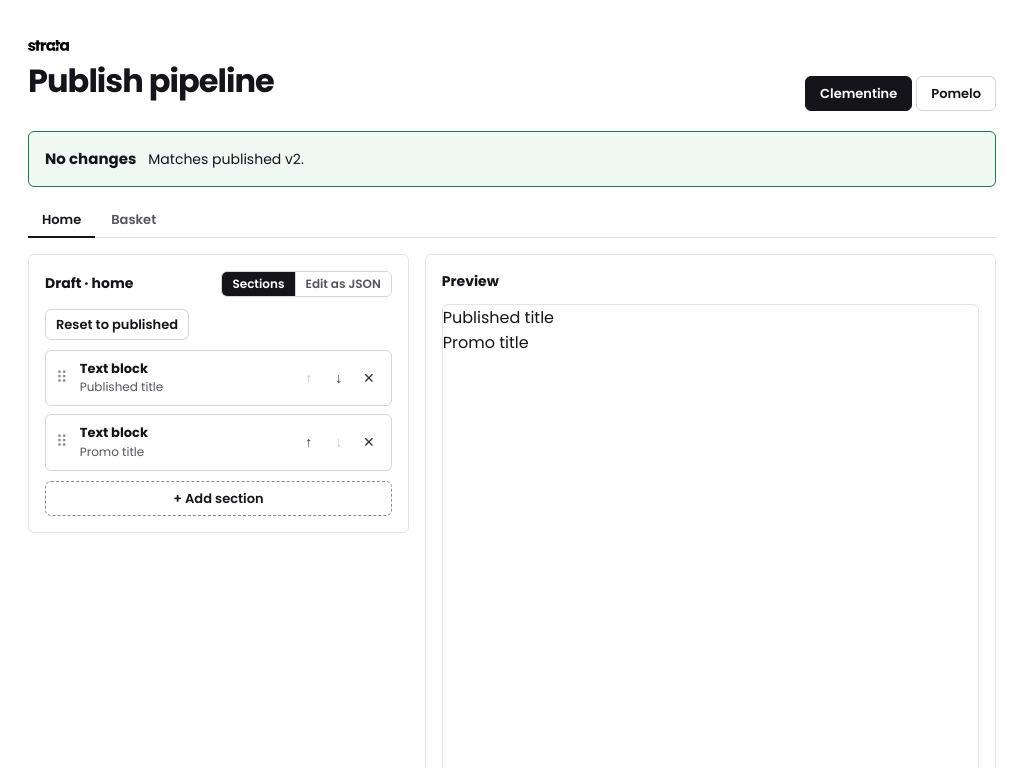
it: the section editor › reorders the preview straight away, before the check returns
Expected: the text "Matches published v2." is shown, x1=148 y1=150 x2=304 y2=170
Click the button named "Move Text block up" at (309, 442), box x1=295 y1=428 x2=323 y2=456
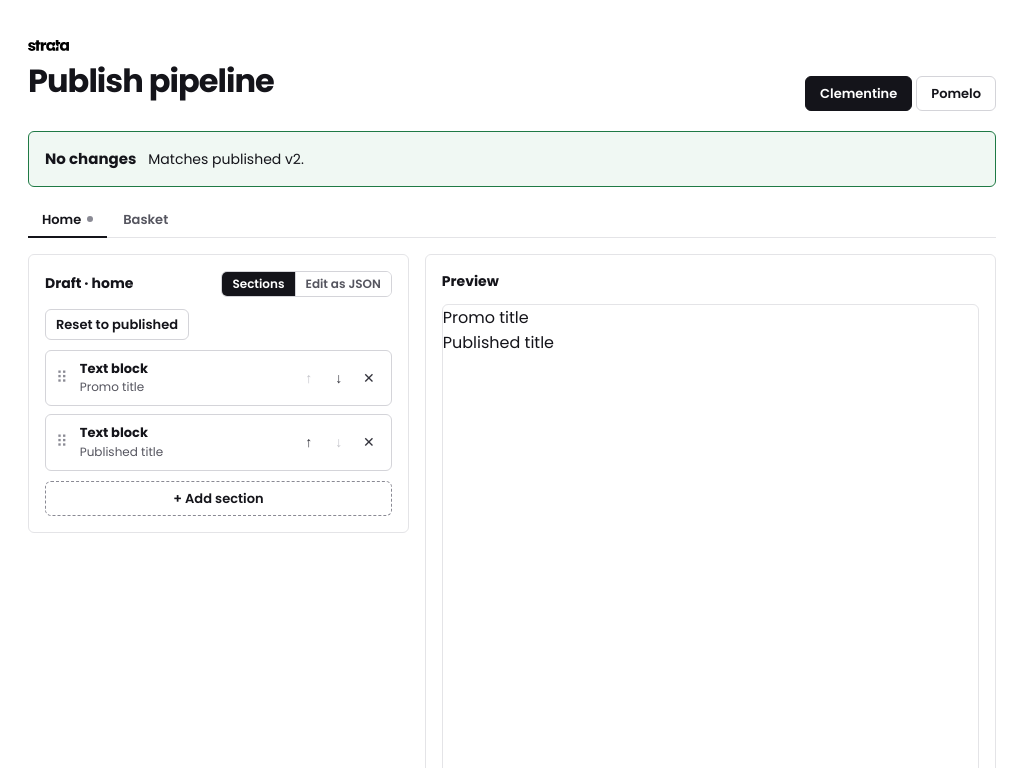
Expected: the elements "title" read "Promo title", "Published title", in this order, x1=443 y1=306 x2=529 y2=329; x1=443 y1=331 x2=554 y2=354
